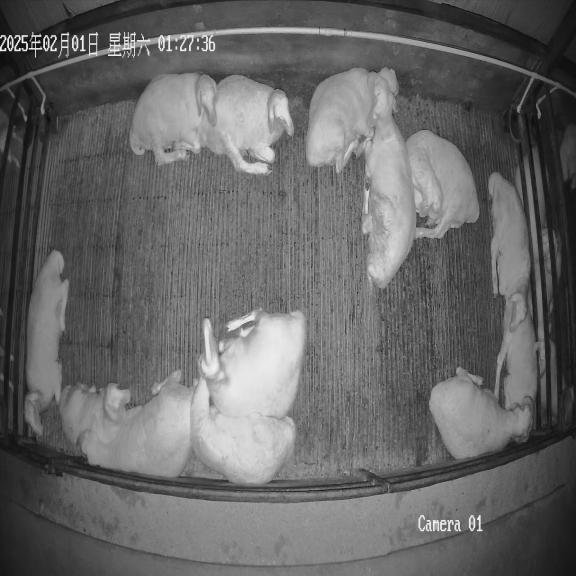lying: (79, 376, 194, 478), (199, 310, 306, 418), (362, 75, 416, 288), (191, 378, 296, 484), (305, 67, 399, 173), (200, 74, 294, 175), (429, 367, 532, 459), (24, 250, 69, 437), (129, 72, 216, 165), (406, 130, 479, 239), (488, 172, 531, 334), (59, 383, 130, 460), (494, 316, 537, 425)
